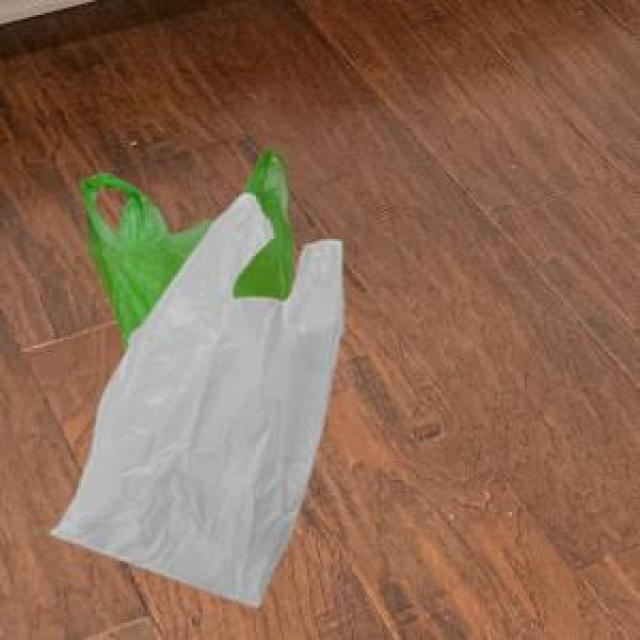waste: (52, 149, 342, 606)
